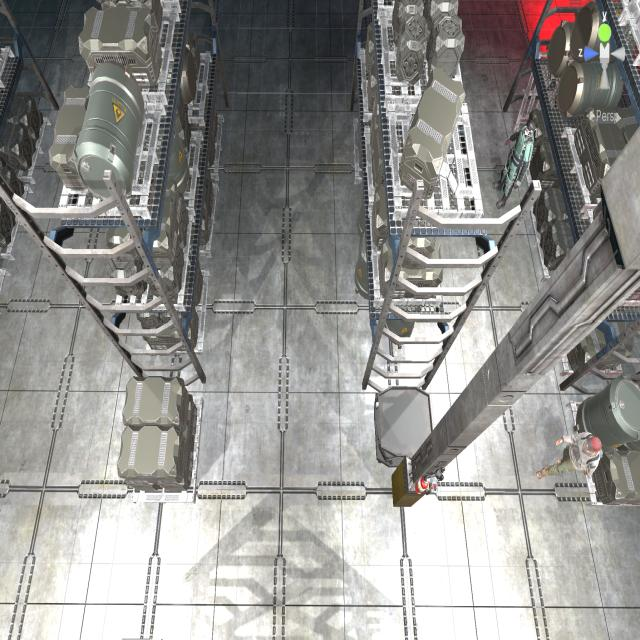thiefs: (533, 419, 608, 492)
